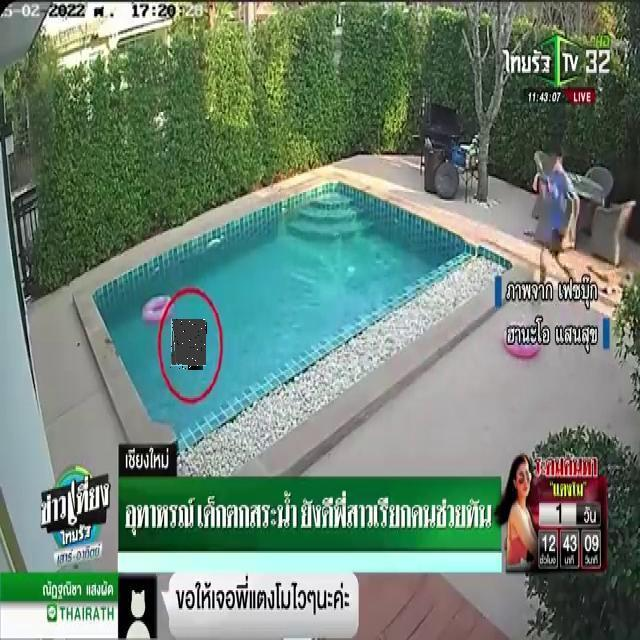Out of Water: (171, 320, 206, 370)
